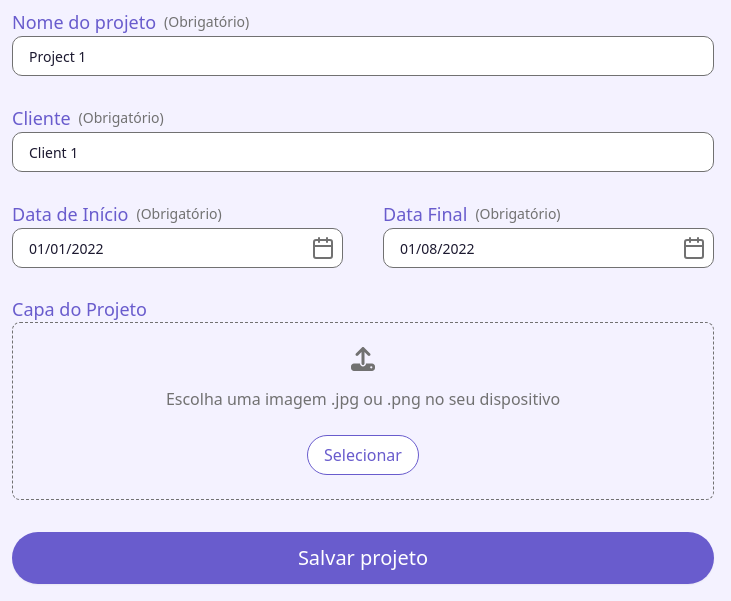
Test: ProjectForm › should render the form with project data and submit
Expected: the field with placeholder "Nome do projeto" holds "Project 1", x1=12 y1=36 x2=714 y2=76
Expected: the text "Cliente" is shown, x1=12 y1=106 x2=71 y2=130
Click the button "Salvar projeto": (363, 558) x1=12 y1=532 x2=714 y2=584
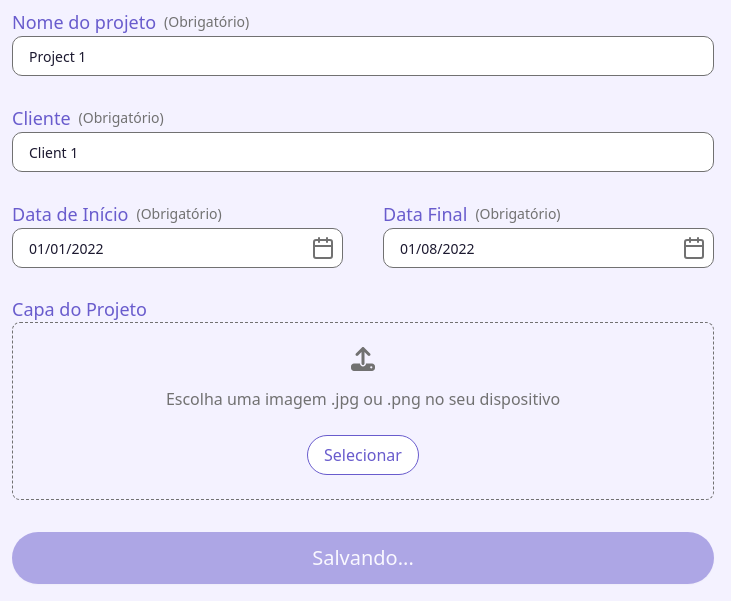
Now the button "Salvar projeto" is disabled, box x1=12 y1=532 x2=714 y2=584
